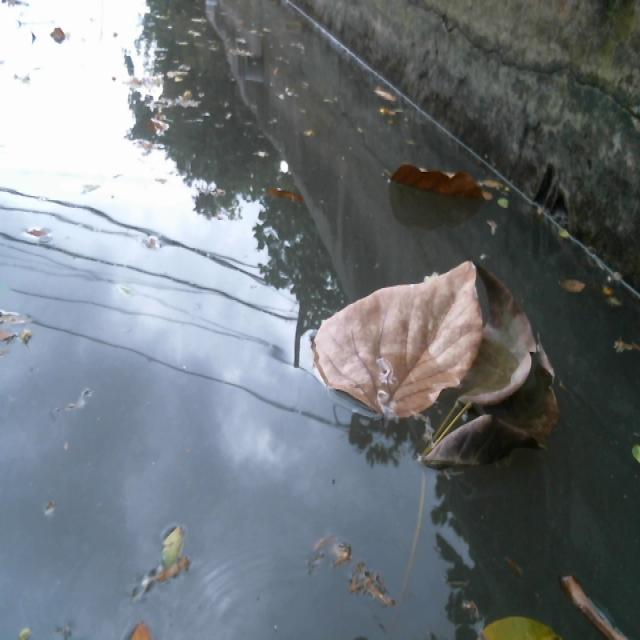Big-leaf: (304, 264, 575, 491), (382, 148, 492, 219)
Small-leaf: (123, 535, 218, 604), (565, 561, 640, 640), (448, 608, 572, 640), (248, 168, 315, 212), (552, 269, 605, 308), (365, 80, 403, 128), (15, 214, 58, 256), (548, 215, 583, 254), (609, 332, 640, 375), (622, 417, 640, 490)
